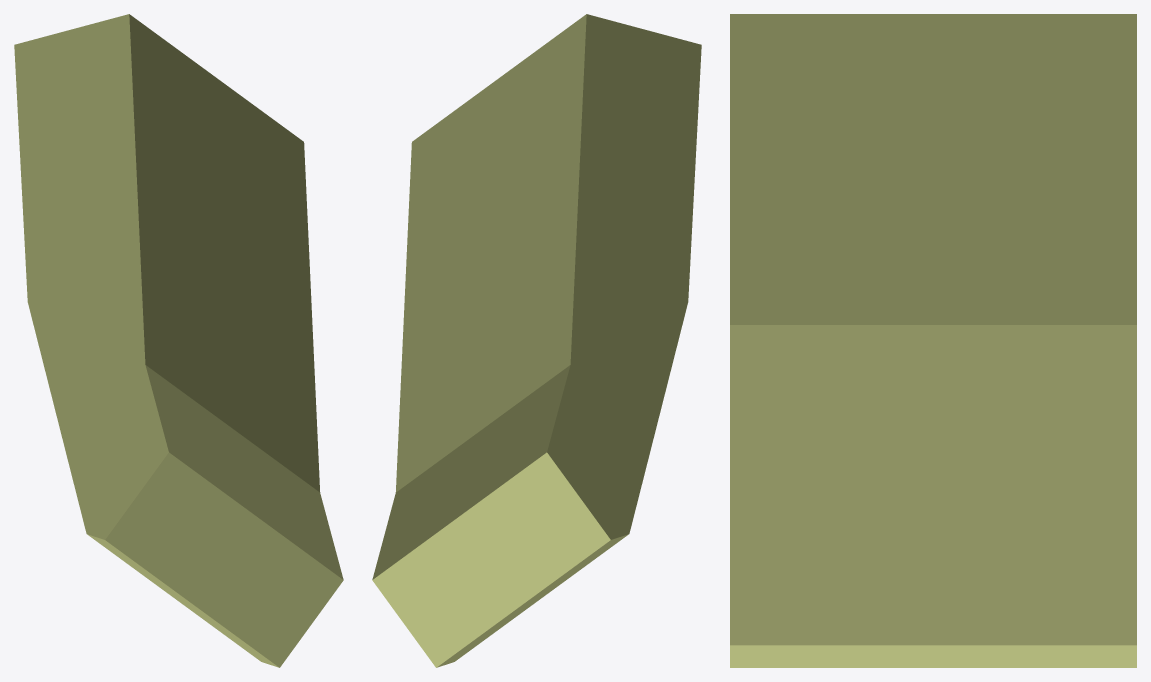
3 views of the same model, side by side, from view 1: azimuth 30°, elevation 25°; view 2: azimuth 150°, elevation 25°; view 3: azimuth 270°, elevation 25° (orthographic). The views are drawn at different scales.
Parts seen in each view (by area): view 1: 0_0_1_1_3_2_3_3_2_2; view 2: 0_0_1_1_3_2_3_3_2_2; view 3: 0_0_1_1_3_2_3_3_2_2.
Part boxes in pixels (x1,y1,x2,y2): 0_0_1_1_3_2_3_3_2_2: (14, 14, 343, 667); 0_0_1_1_3_2_3_3_2_2: (372, 14, 701, 667); 0_0_1_1_3_2_3_3_2_2: (730, 14, 1136, 667).
Size of the model in its own units: 4.6 by 14.78 by 9.
